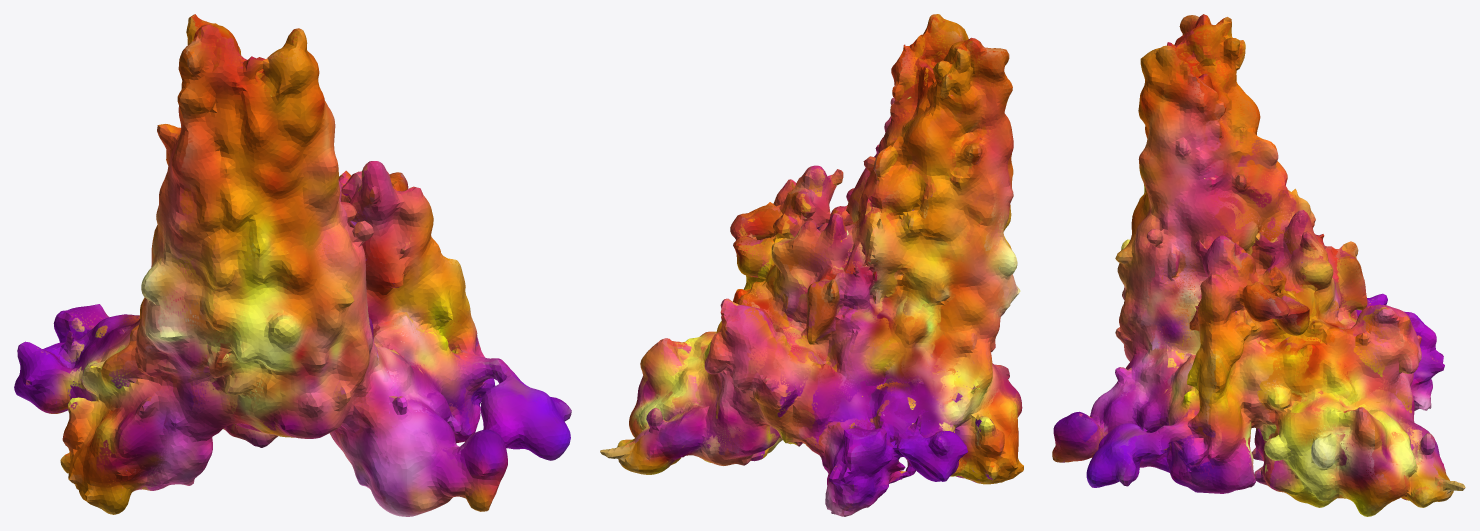
The model's file is fire_chair.glb.
3 views of the same model, side by side, from view 1: azimuth 30°, elevation 25°; view 2: azimuth 150°, elevation 25°; view 3: azimuth 270°, elevation 25° (orthographic). The views are drawn at different scales.
Size of the model in its own units: 1.38 by 1.59 by 1.5.
Materials: 1 (1 with a texture image).
